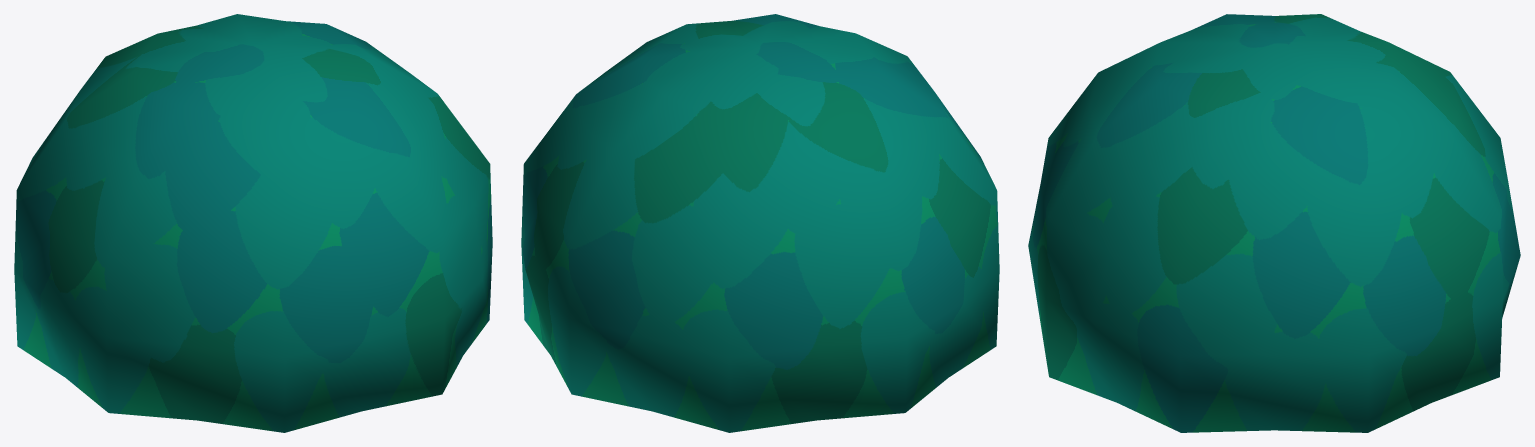
File: Arbusto.fbx
3 views of the same model, side by side, from view 1: azimuth 30°, elevation 25°; view 2: azimuth 150°, elevation 25°; view 3: azimuth 270°, elevation 25° (orthographic). The views are drawn at different scales.
Parts seen in each view (by area): view 1: Arbusto.L; view 2: Arbusto.L; view 3: Arbusto.L.
Boxes of the visible parts, bbox=[...] form: Arbusto.L: bbox=[14, 14, 492, 432]; Arbusto.L: bbox=[521, 14, 999, 432]; Arbusto.L: bbox=[1028, 14, 1520, 432].
Bounding box in the file's own units: 69 × 47.21 × 69.
